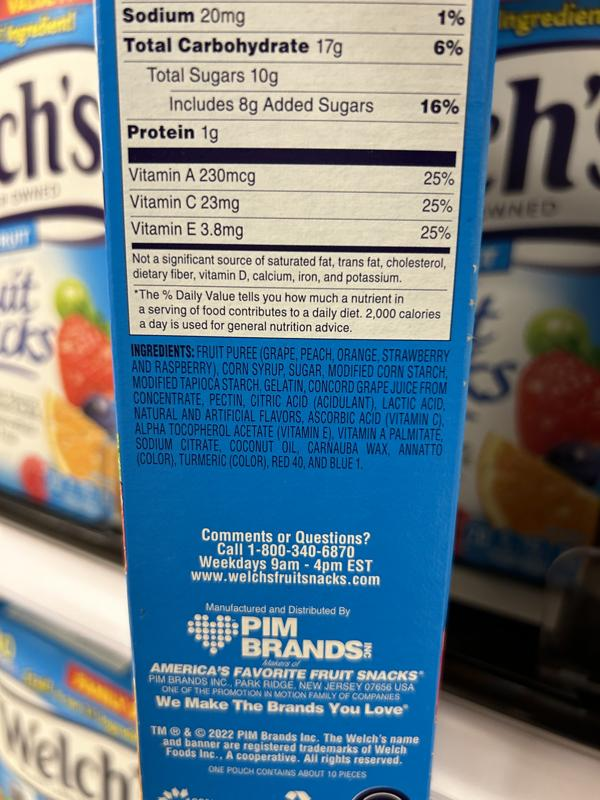ingredients: (127, 341, 452, 473)
